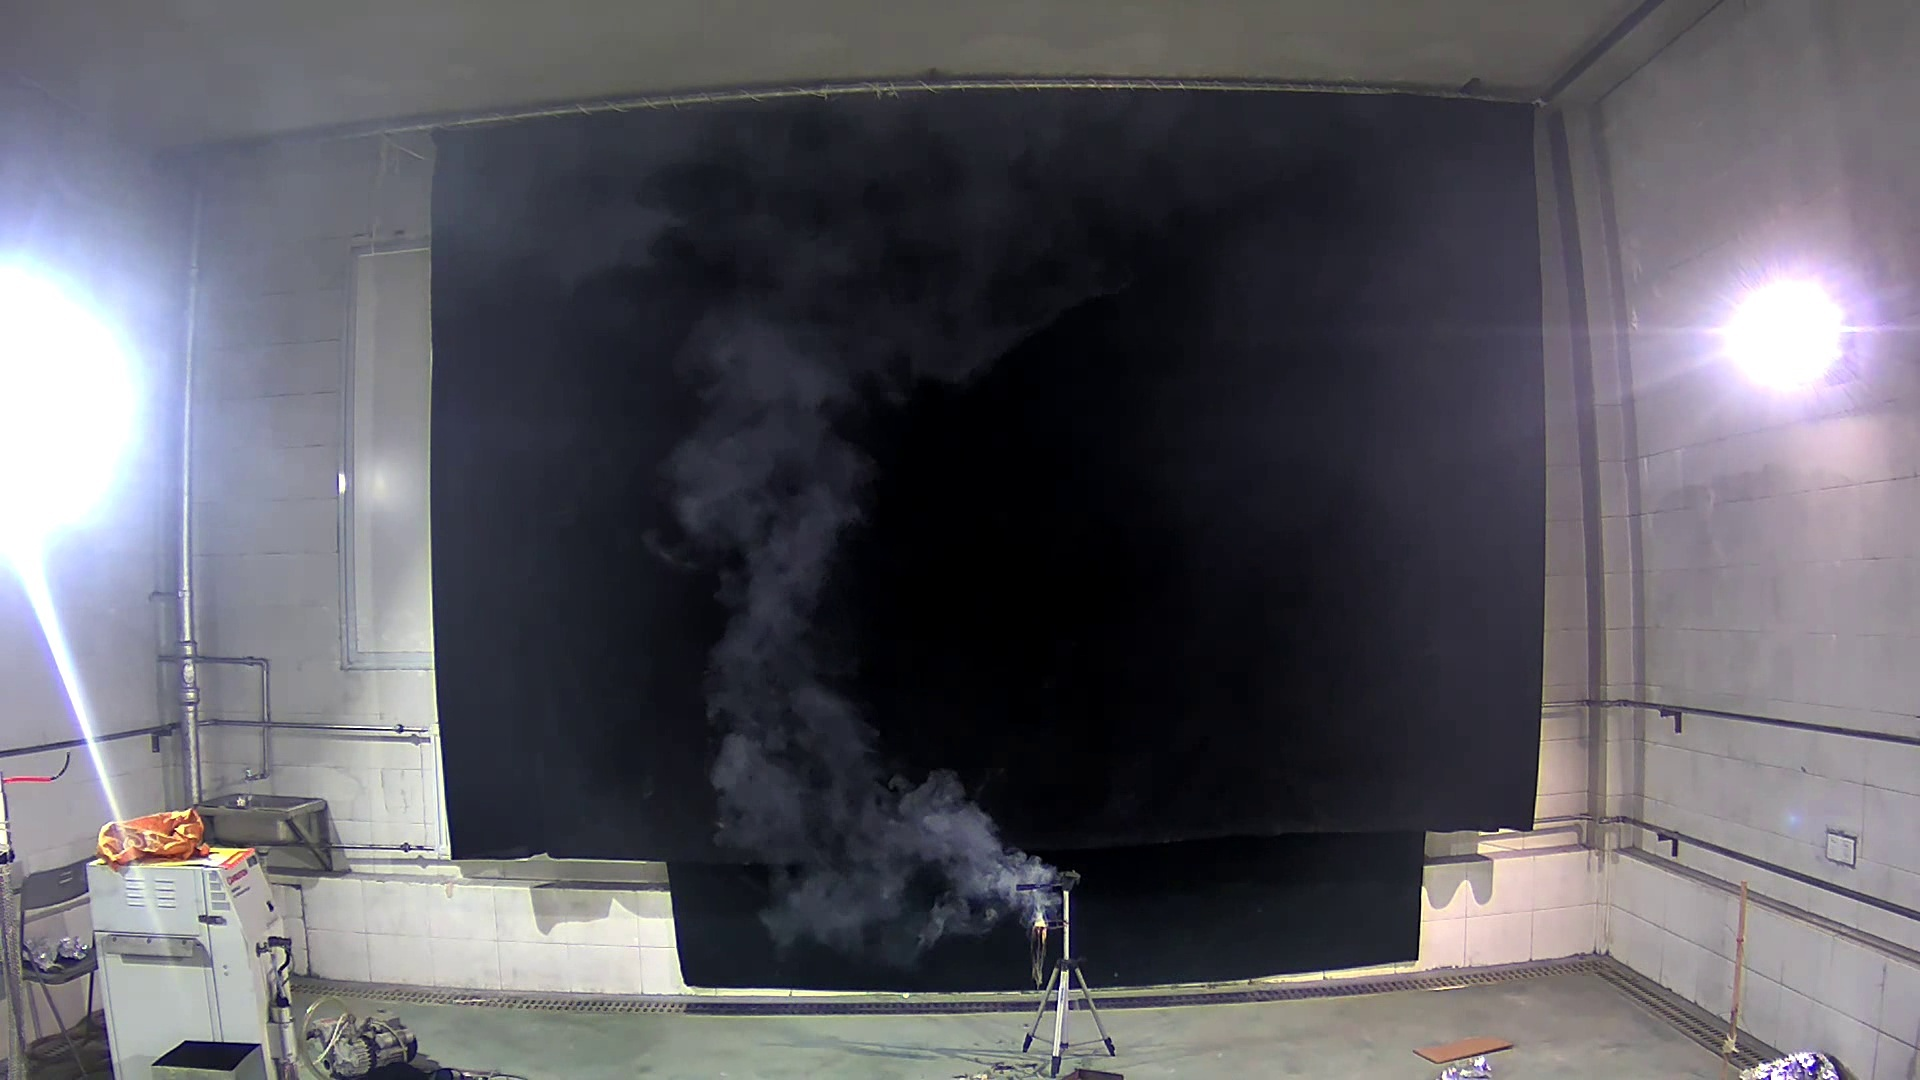smoke: (655, 257, 1052, 961)
